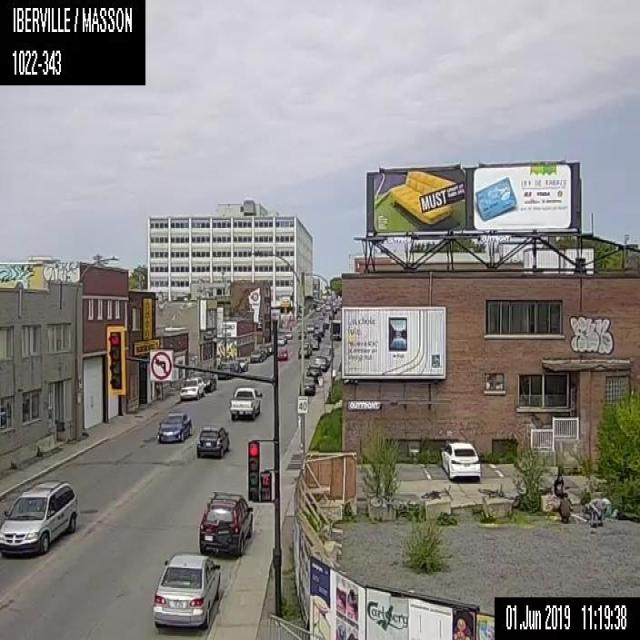vehicle: (150, 548, 221, 635), (0, 477, 78, 555), (197, 487, 255, 558), (438, 440, 484, 481), (228, 384, 262, 423), (195, 423, 228, 457), (157, 411, 191, 441), (179, 374, 204, 398), (299, 373, 316, 395), (217, 361, 234, 381), (201, 372, 216, 392), (305, 362, 320, 378), (313, 355, 330, 369), (247, 349, 264, 362), (236, 355, 248, 371), (308, 336, 320, 350), (276, 348, 286, 362), (298, 345, 308, 358), (304, 320, 315, 331), (312, 329, 322, 340), (264, 342, 273, 352), (276, 335, 284, 346), (297, 329, 306, 338), (284, 331, 292, 340), (314, 302, 320, 310), (322, 322, 328, 328), (318, 312, 323, 319)
